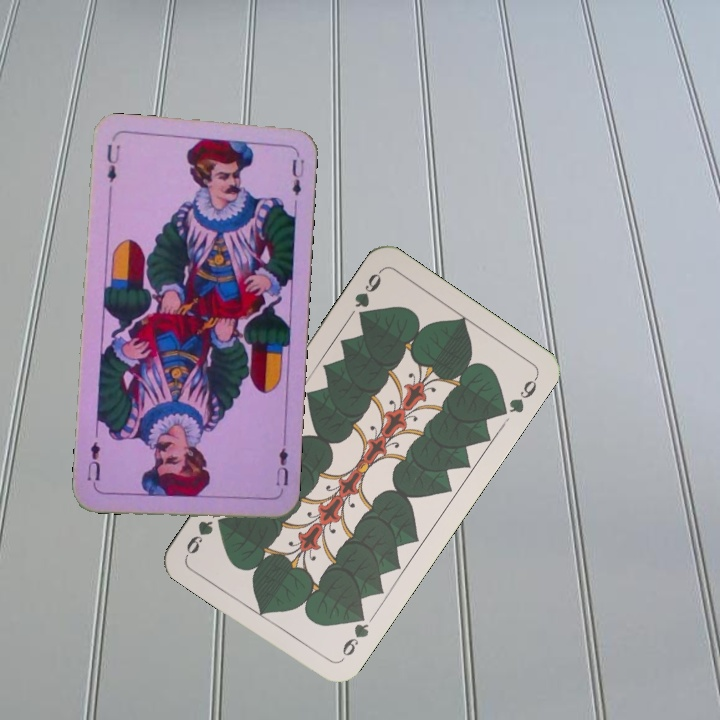EU: (272, 443, 291, 496), (103, 140, 122, 185)
G9: (337, 606, 372, 663), (350, 266, 384, 324)
